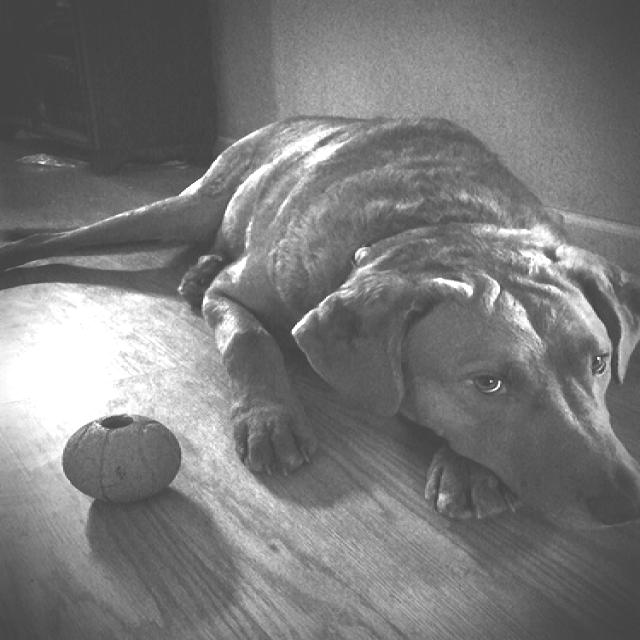Dog: (136, 71, 640, 629)
